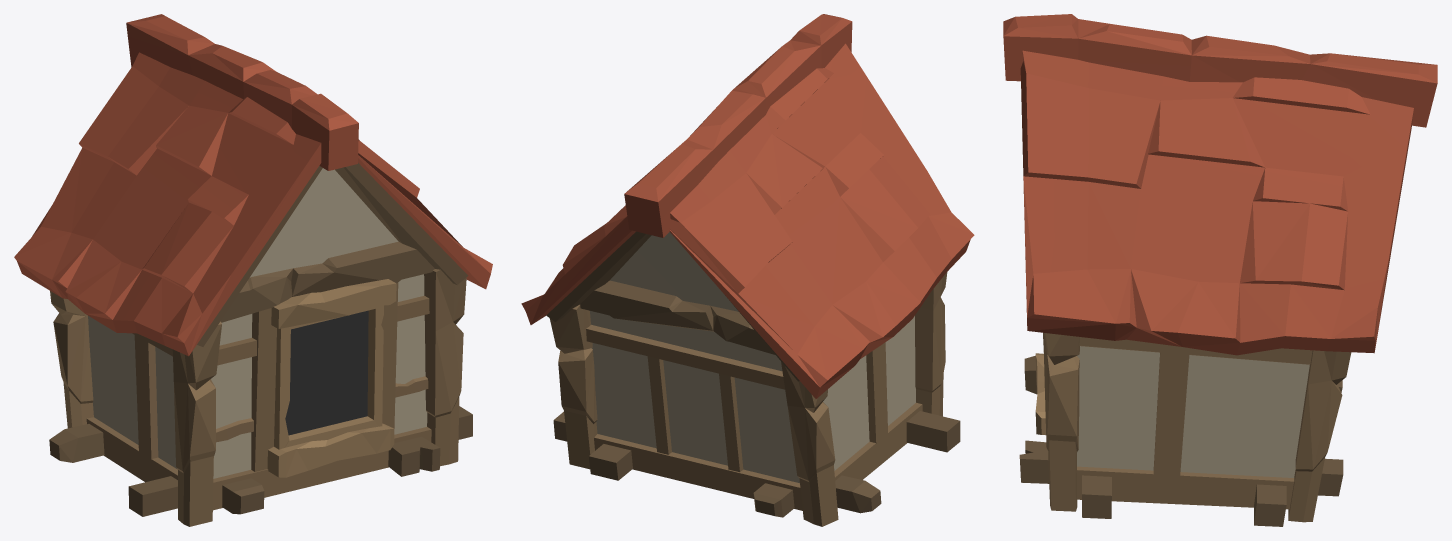
File: SM_Bld_House_Window_02.gltf
3 views of the same model, side by side, from view 1: azimuth 30°, elevation 25°; view 2: azimuth 150°, elevation 25°; view 3: azimuth 270°, elevation 25° (orthographic). The views are drawn at different scales.
Visible parts, largest first — view 1: SM_Bld_House_Window_02; view 2: SM_Bld_House_Window_02; view 3: SM_Bld_House_Window_02.
Part boxes in pixels (x1,y1,x2,y2): SM_Bld_House_Window_02: [14, 14, 492, 526]; SM_Bld_House_Window_02: [521, 14, 974, 526]; SM_Bld_House_Window_02: [1003, 14, 1437, 526].
Bounding box in the file's own units: 1.83 × 2.11 × 1.93.
Materials: 1 (1 with a texture image).
